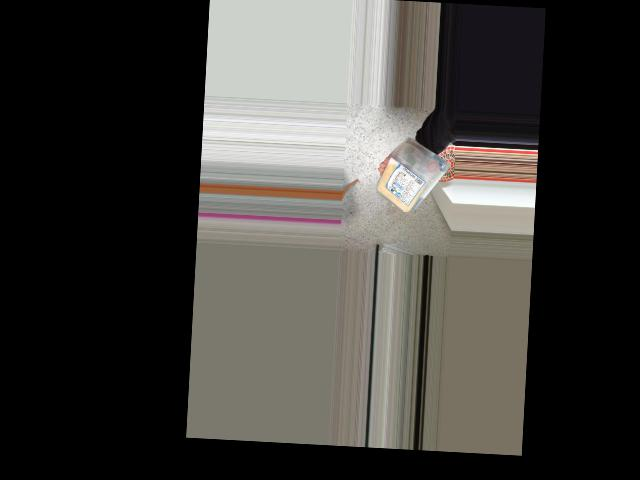cheese: (382, 147, 422, 214)
